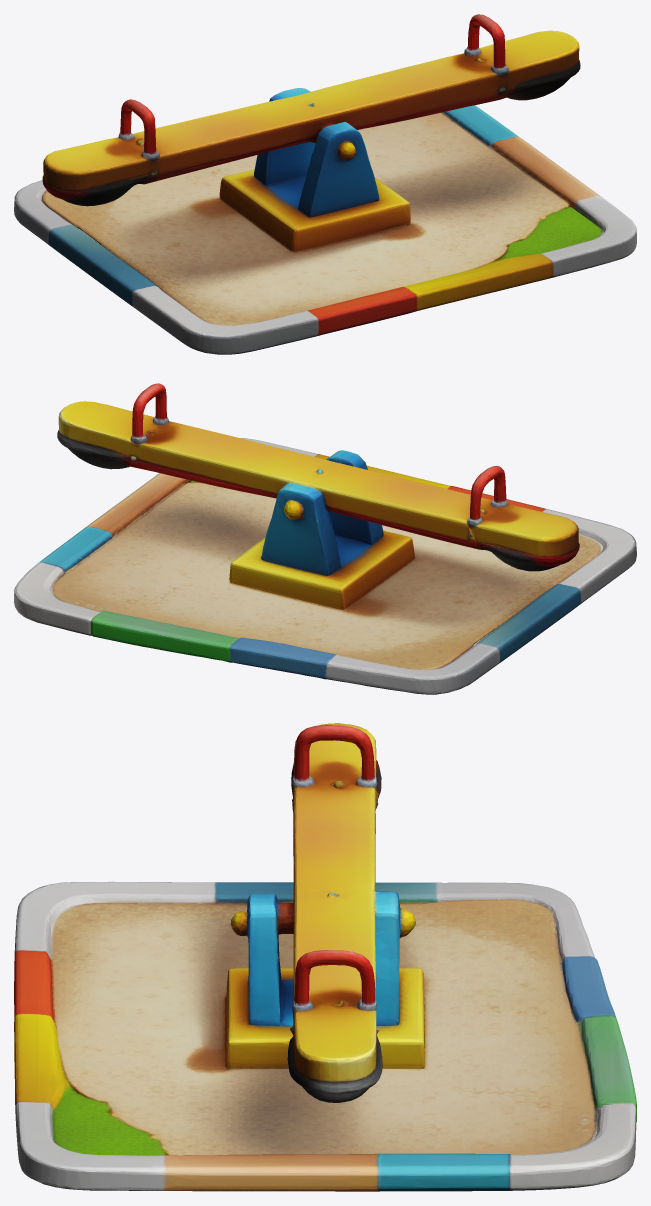
Rendered from seesaw.glb.
3 views of the same model, one above another, from view 1: azimuth 30°, elevation 25°; view 2: azimuth 150°, elevation 25°; view 3: azimuth 270°, elevation 25° (orthographic). The views are drawn at different scales.
Visible parts, largest first — view 1: world.002; view 2: world.002; view 3: world.002.
Part boxes in pixels (left/top/right/bottom): world.002: left=14, top=14, right=636, bottom=354; world.002: left=14, top=383, right=636, bottom=694; world.002: left=14, top=723, right=636, bottom=1191.
Size of the model in its own units: 0.9987 by 0.2898 by 0.7707.
Materials: 1 (1 with a texture image).
